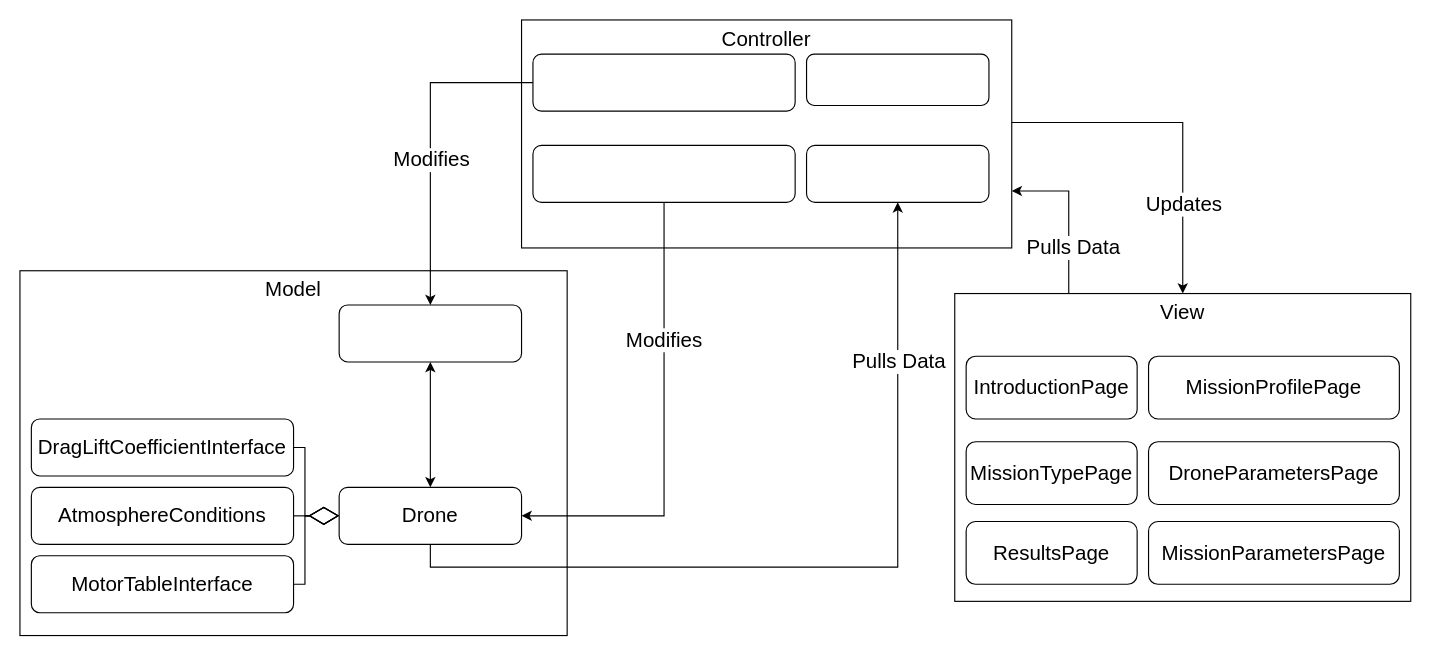
This 1431x656 diagram has some shape labels left out. The shapes that lost their labels are listed below. From the top down, each one's centre as x and y in pixels, then its label:
point (663, 82): MissionController
point (897, 79): IntroController
point (663, 173): DroneParameterController
point (897, 173): ResultsController
point (430, 333): Mission
